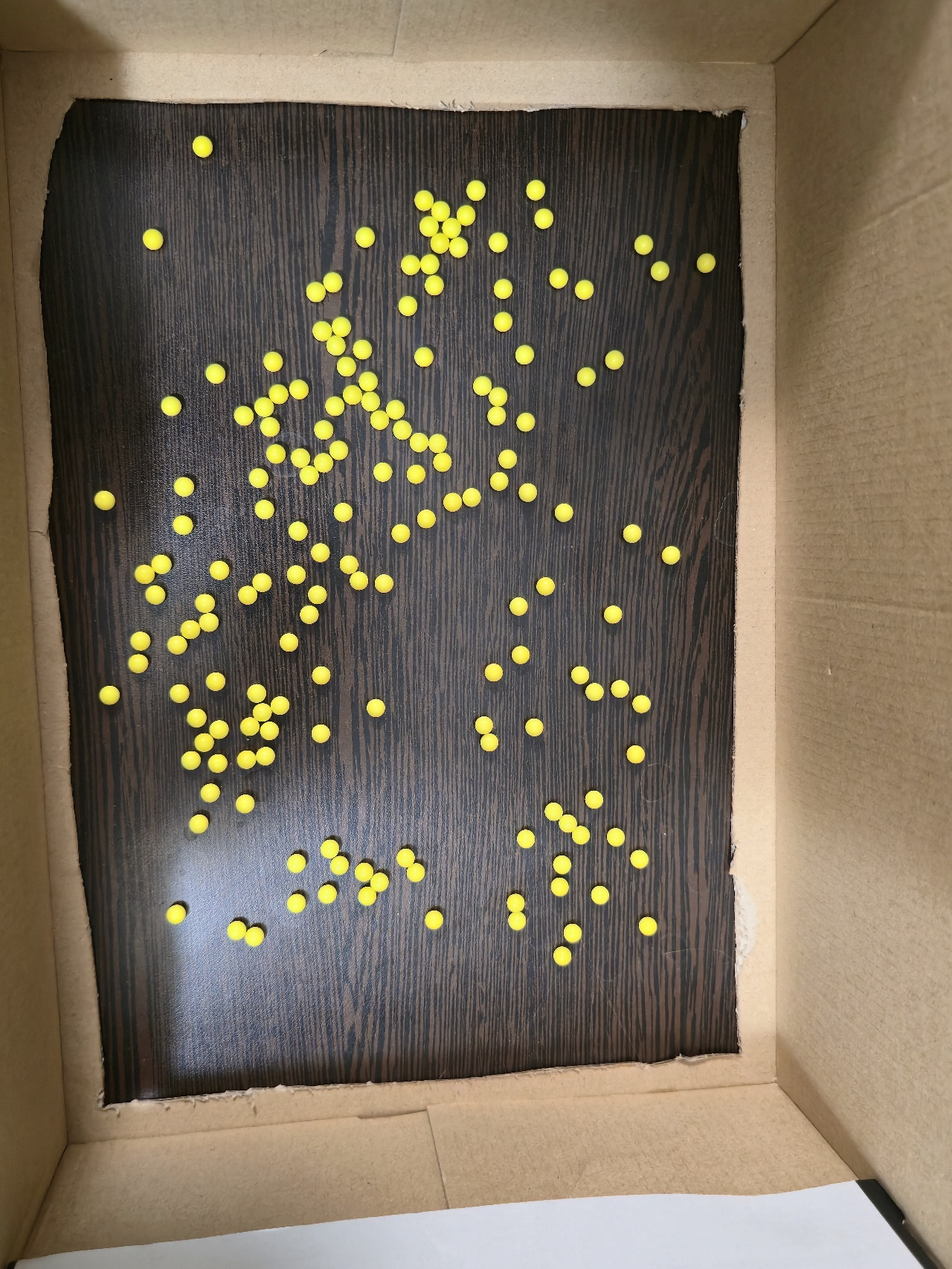yellow_bead: (155, 559, 167, 570), (318, 457, 329, 468), (210, 368, 221, 379), (493, 237, 504, 248), (147, 234, 158, 245), (446, 222, 457, 233), (149, 590, 161, 600), (531, 184, 541, 196), (232, 925, 242, 936), (359, 867, 369, 878), (325, 844, 335, 855), (177, 520, 188, 530), (178, 482, 189, 492), (295, 453, 306, 463), (414, 437, 425, 447), (259, 402, 269, 413), (329, 401, 340, 411), (166, 401, 177, 411), (366, 396, 376, 407), (363, 376, 373, 387), (331, 340, 341, 351), (336, 321, 347, 331), (311, 286, 321, 297), (498, 283, 508, 294), (425, 259, 435, 270), (360, 231, 370, 242), (539, 213, 549, 224), (471, 185, 481, 196), (249, 932, 259, 942), (170, 909, 180, 919), (322, 889, 332, 899), (375, 877, 385, 887), (214, 565, 224, 575), (293, 526, 303, 536), (304, 470, 314, 480), (433, 439, 443, 449), (398, 425, 408, 435), (375, 415, 385, 425), (239, 411, 249, 421), (493, 392, 503, 402), (273, 389, 283, 399), (294, 384, 304, 394), (477, 381, 487, 391), (268, 356, 278, 366), (317, 326, 327, 336), (498, 317, 508, 327), (403, 301, 413, 311), (429, 280, 439, 290), (328, 277, 338, 287), (554, 273, 564, 283), (655, 266, 665, 276), (639, 240, 649, 250), (424, 221, 434, 231), (436, 206, 446, 216), (419, 195, 429, 205), (558, 951, 567, 962), (512, 914, 521, 925), (362, 891, 371, 902), (292, 858, 301, 869), (104, 690, 115, 699), (185, 625, 196, 634), (99, 495, 110, 504), (347, 390, 358, 399), (341, 362, 352, 371), (568, 928, 577, 938), (596, 890, 605, 900), (411, 867, 420, 877), (558, 860, 567, 870), (401, 853, 410, 863), (563, 819, 573, 828), (193, 819, 202, 829), (240, 799, 249, 809), (186, 756, 196, 765), (242, 755, 252, 764), (199, 738, 208, 748), (245, 722, 255, 731), (258, 707, 267, 717), (275, 701, 285, 710), (172, 640, 182, 649), (135, 636, 145, 645), (200, 599, 210, 608), (139, 569, 149, 578), (338, 507, 348, 516), (260, 504, 269, 514), (254, 473, 263, 483), (411, 469, 421, 478), (378, 467, 387, 477), (271, 449, 281, 458), (334, 446, 344, 455), (319, 425, 329, 434), (265, 422, 275, 431), (390, 405, 400, 414), (582, 372, 591, 382), (419, 352, 428, 362), (520, 350, 530, 359), (358, 344, 367, 354), (405, 260, 414, 270), (701, 258, 711, 267), (454, 242, 463, 252), (461, 210, 471, 219), (512, 899, 520, 910), (643, 922, 652, 931), (556, 882, 565, 891), (521, 835, 530, 844), (611, 832, 620, 841), (576, 830, 585, 839), (550, 807, 559, 816), (205, 788, 214, 797), (213, 759, 222, 768), (265, 726, 274, 735), (192, 713, 201, 722), (252, 689, 261, 698), (174, 689, 183, 698), (616, 684, 625, 693), (133, 659, 142, 668), (284, 637, 293, 646), (204, 617, 213, 626), (312, 590, 321, 599), (316, 547, 325, 556), (628, 529, 637, 538), (422, 514, 431, 523), (559, 508, 568, 517), (467, 492, 476, 501), (524, 488, 533, 497), (495, 477, 504, 486), (438, 457, 447, 466), (521, 417, 530, 426), (492, 411, 501, 420), (610, 355, 619, 364), (580, 285, 589, 294), (292, 899, 300, 909), (214, 725, 224, 733), (304, 610, 314, 618), (242, 591, 252, 599), (435, 240, 445, 248), (430, 915, 438, 924), (635, 855, 644, 863), (590, 795, 599, 803), (260, 751, 269, 759), (316, 729, 325, 737), (480, 721, 488, 730), (371, 704, 380, 712), (590, 687, 599, 695), (210, 677, 219, 685), (317, 671, 326, 679), (514, 602, 523, 610), (541, 582, 550, 590), (379, 579, 388, 587), (257, 578, 266, 586), (355, 576, 363, 585), (292, 570, 300, 579), (344, 560, 353, 568), (667, 550, 675, 559), (396, 529, 405, 537), (448, 498, 457, 506), (504, 454, 512, 463), (197, 141, 204, 151), (530, 723, 538, 731), (516, 650, 524, 658), (637, 700, 646, 707), (576, 671, 585, 678), (608, 610, 617, 617), (632, 750, 640, 757), (485, 738, 493, 745), (490, 668, 498, 675), (335, 861, 344, 866), (69, 1263, 75, 1269), (88, 1268, 89, 1269), (77, 1259, 79, 1259)
